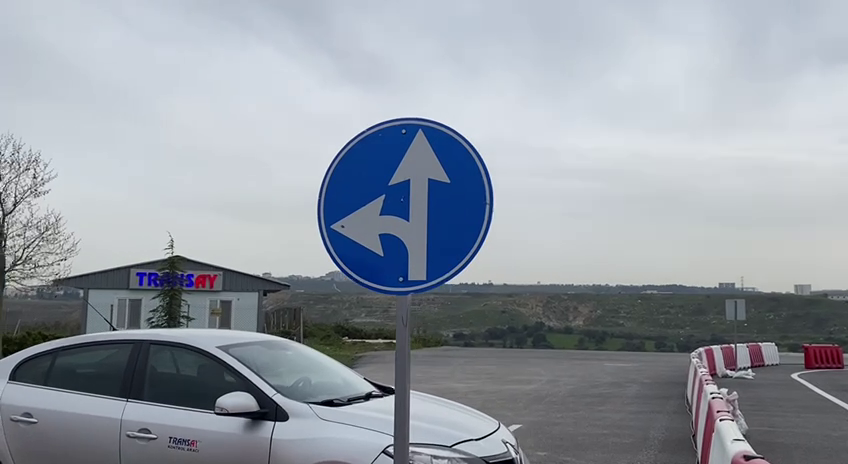forwardAndLeft: (314, 115, 496, 298)
